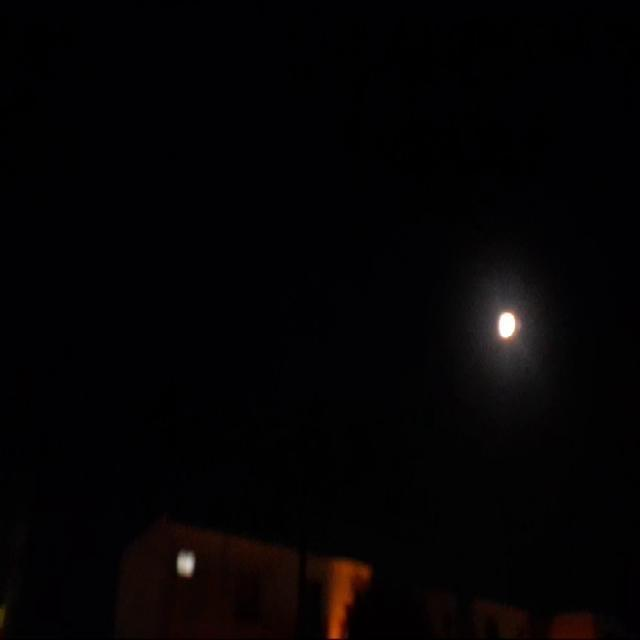moon: (497, 295, 520, 329)
